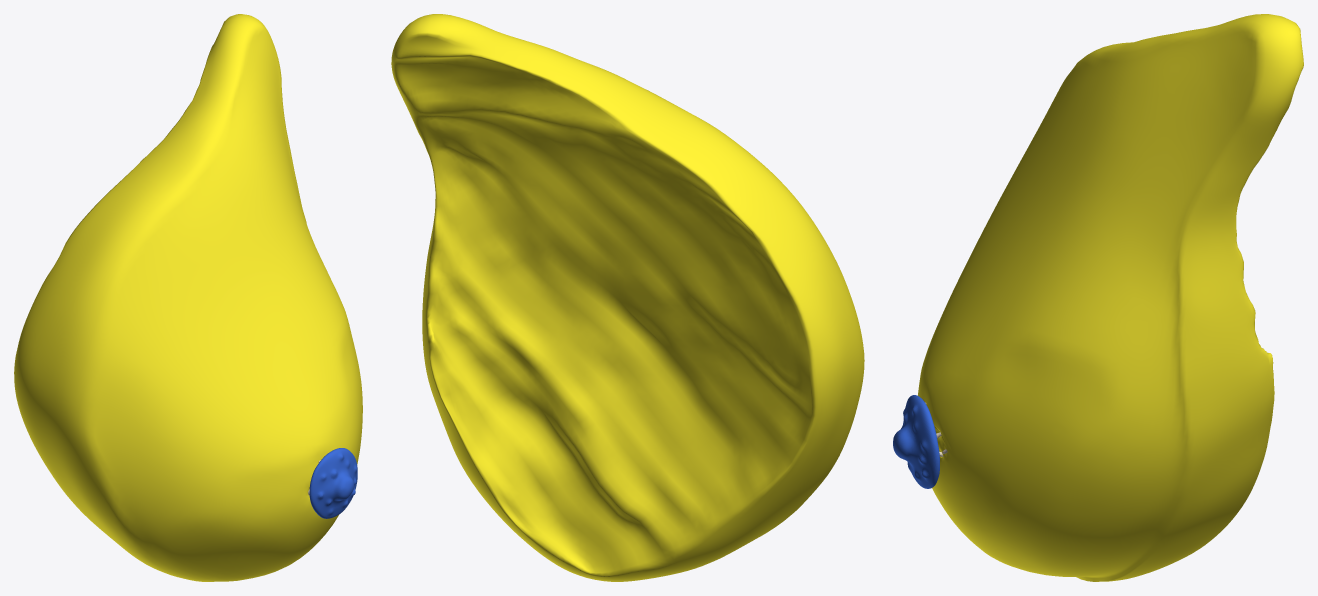
File: mammary-gland.glb
3 views of the same model, side by side, from view 1: azimuth 30°, elevation 25°; view 2: azimuth 150°, elevation 25°; view 3: azimuth 270°, elevation 25° (orthographic). The views are drawn at different scales.
Visible parts, largest first — view 1: VH_F_fat_L, VH_F_areola_L; view 2: VH_F_fat_L; view 3: VH_F_fat_L, VH_F_areola_L, VH_F_nipple_L.
Boxes of the visible parts, left/top/right/bottom form: VH_F_fat_L: left=14, top=14, right=362, bottom=581; VH_F_areola_L: left=309, top=448, right=357, bottom=518; VH_F_fat_L: left=391, top=14, right=864, bottom=581; VH_F_fat_L: left=918, top=14, right=1303, bottom=581; VH_F_areola_L: left=901, top=395, right=939, bottom=488; VH_F_nipple_L: left=893, top=427, right=913, bottom=464.
Bounding box in the file's own units: 0.1282 × 0.1819 × 0.1119.
